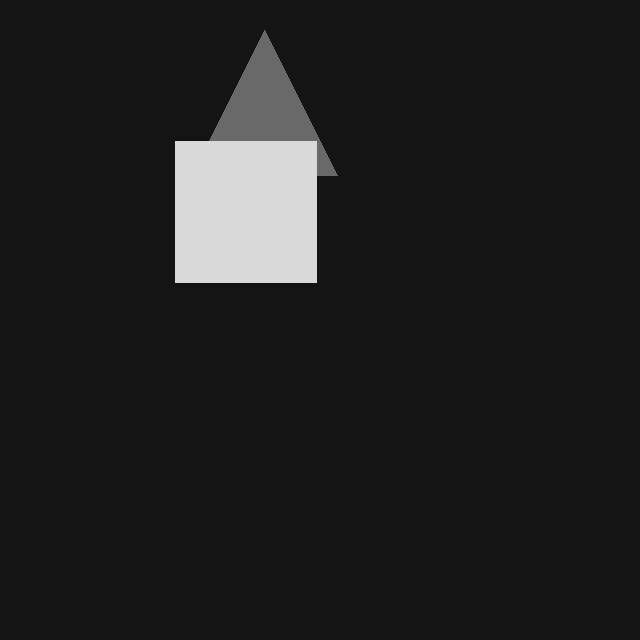square: (175, 141, 316, 282)
triangle: (192, 30, 337, 175)
